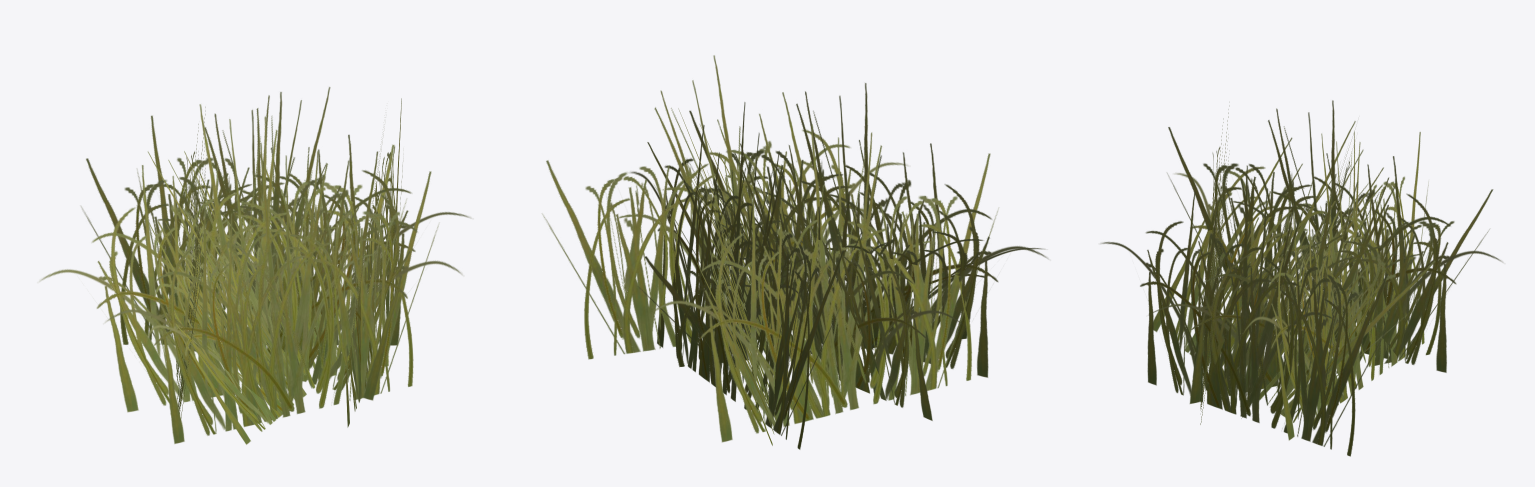
File: grass.glb
3 views of the same model, side by side, from view 1: azimuth 30°, elevation 25°; view 2: azimuth 150°, elevation 25°; view 3: azimuth 270°, elevation 25° (orthographic). The views are drawn at different scales.
Visible parts, largest first — view 1: plant_lod0; view 2: plant_lod0; view 3: plant_lod0.
Part boxes in pixels (bbox=[...]): plant_lod0: bbox=[39, 87, 471, 444]; plant_lod0: bbox=[542, 55, 1048, 449]; plant_lod0: bbox=[1100, 100, 1502, 456].
Size of what is drawn, in the model's own units: 0.8209 by 0.5333 by 0.7543.
Materials: 1 (1 with a texture image).
